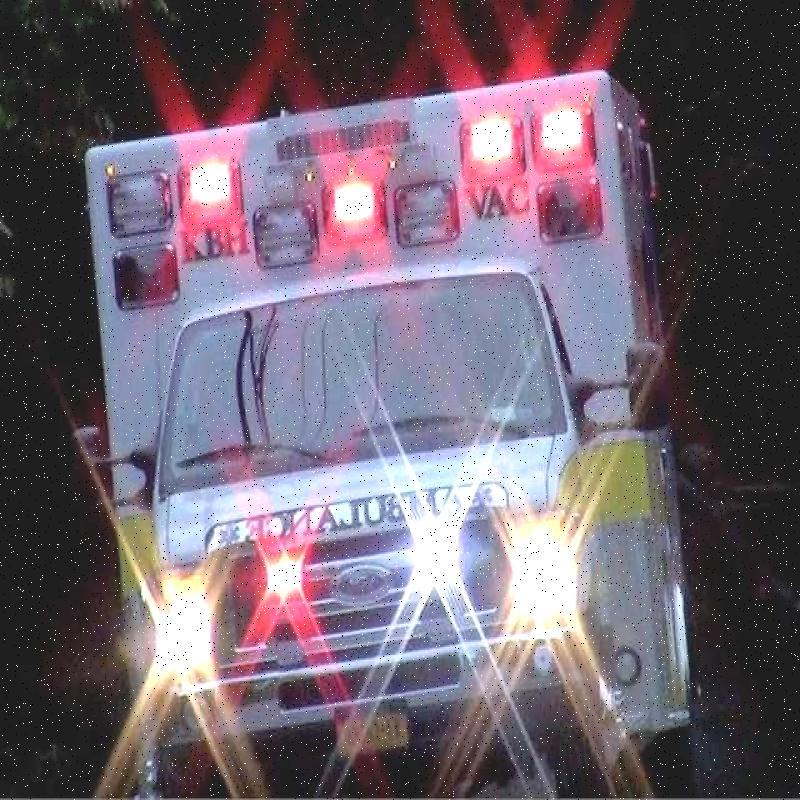AmbulanceSiren: (84, 98, 605, 240)
